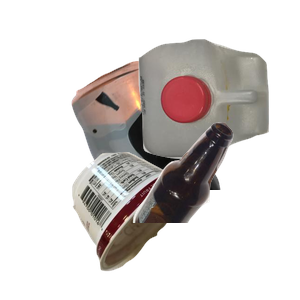glass: (130, 120, 300, 300)
metal: (69, 58, 300, 238)
plastic: (136, 37, 300, 188)
trash: (70, 149, 254, 300)
